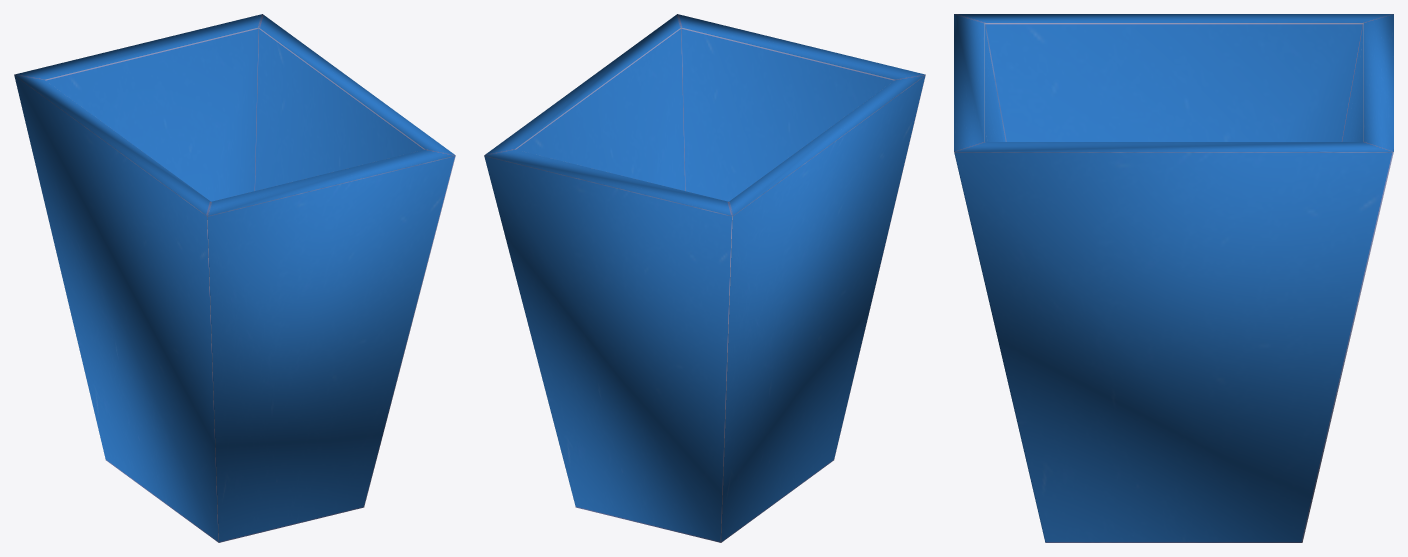
The model's file is trash_bin.fbx.
The picture shows the model from 3 angles, left to right: view 1: azimuth 30°, elevation 25°; view 2: azimuth 150°, elevation 25°; view 3: azimuth 270°, elevation 25°; orthographic projection. The views are drawn at different scales.
Parts seen in each view (by area): view 1: trash_bin; view 2: trash_bin; view 3: trash_bin.
Boxes of the visible parts, <box> form: trash_bin: <box>14,14,455,542</box>; trash_bin: <box>484,14,925,542</box>; trash_bin: <box>954,14,1393,542</box>.
Bounding box in the file's own units: 44.1 × 62.61 × 59.39.
1 material, 1 textured.
